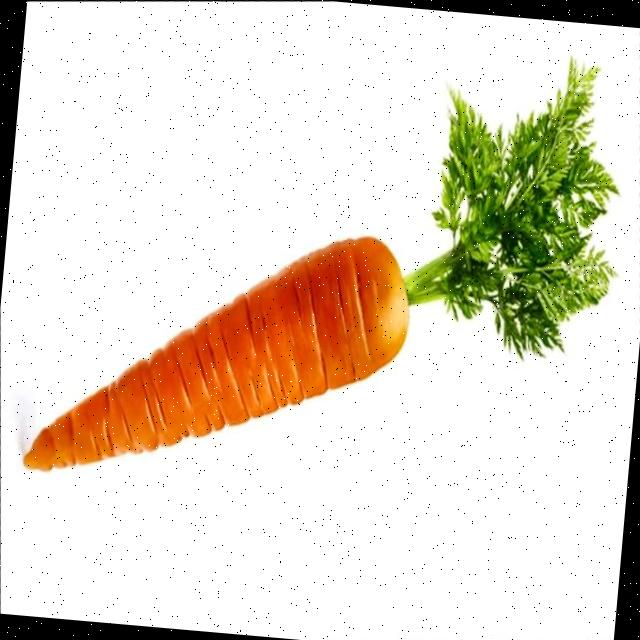carrot: (23, 64, 617, 469)
